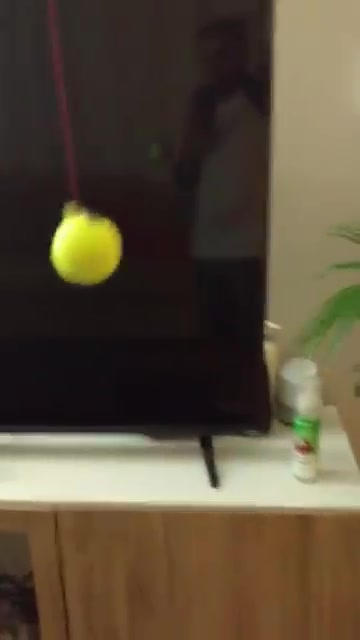tennis_ball: (48, 202, 127, 292)
